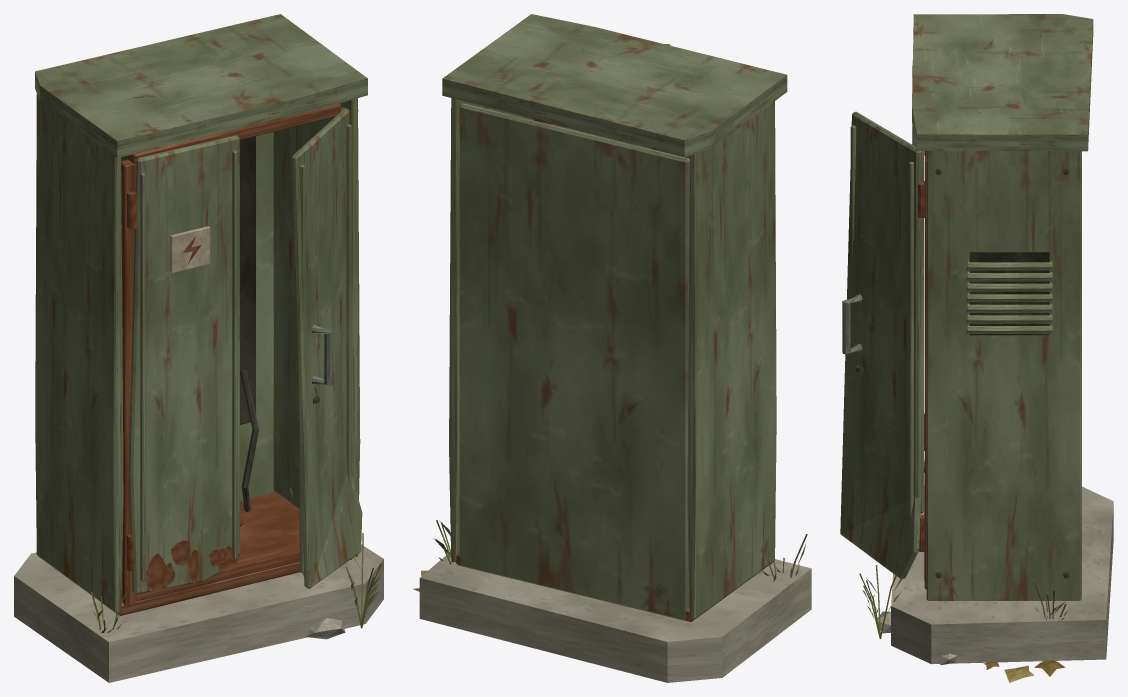
File: nb_utility_cabinet.glb
3 renders of one model, left to right at view 1: azimuth 30°, elevation 25°; view 2: azimuth 150°, elevation 25°; view 3: azimuth 270°, elevation 25°, orthographic. The views are drawn at different scales.
Parts seen in each view (by area): view 1: Utility_Cabinet_Damaged_Body, Cabinet_Left_Damaged_Door, Cabinet_Right_Ajar_Door; view 2: Utility_Cabinet_Damaged_Body; view 3: Utility_Cabinet_Damaged_Body, Cabinet_Right_Ajar_Door, Cabinet_Left_Damaged_Door.
Part boxes in pixels (box(x1,y1,x2,y2)): Utility_Cabinet_Damaged_Body: box(14, 14, 383, 682); Cabinet_Left_Damaged_Door: box(127, 135, 240, 594); Cabinet_Right_Ajar_Door: box(291, 108, 362, 588); Utility_Cabinet_Damaged_Body: box(413, 14, 811, 682); Utility_Cabinet_Damaged_Body: box(859, 14, 1113, 682); Cabinet_Right_Ajar_Door: box(840, 111, 924, 579); Cabinet_Left_Damaged_Door: box(912, 65, 924, 513).
Bounding box in the file's own units: 1.04 × 1.59 × 0.7492.
1 material, 1 textured.
